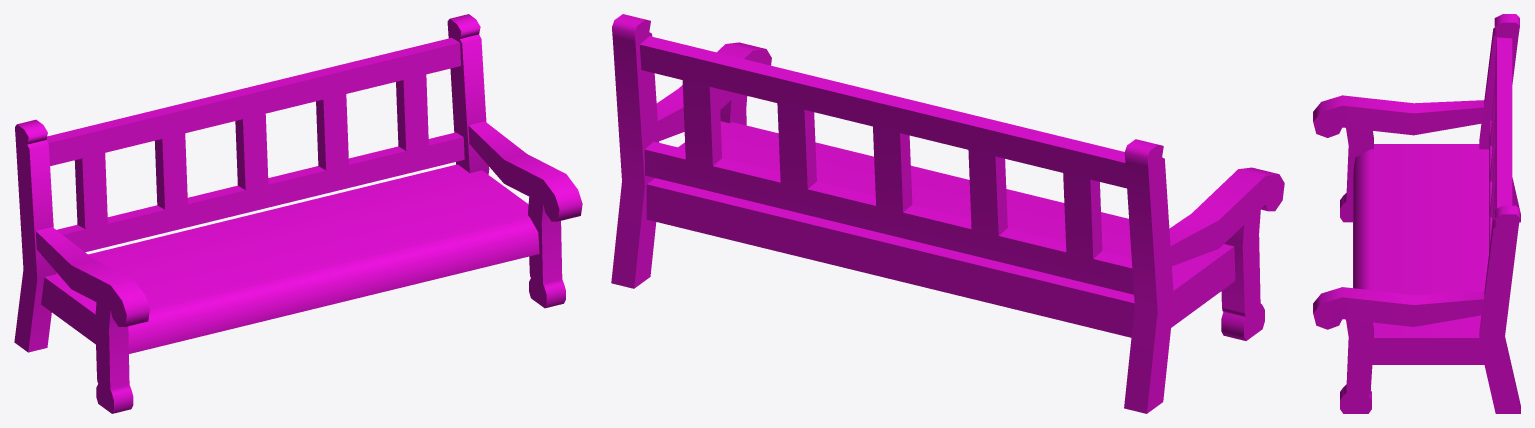
Rendered from Bench.fbx.
3 renders of one model, left to right at view 1: azimuth 30°, elevation 25°; view 2: azimuth 150°, elevation 25°; view 3: azimuth 270°, elevation 25°, orthographic. The views are drawn at different scales.
Visible parts, largest first — view 1: Bench; view 2: Bench; view 3: Bench.
Part boxes in pixels (left/top/right/bottom): Bench: left=14, top=14, right=582, bottom=413; Bench: left=611, top=14, right=1284, bottom=413; Bench: left=1313, top=14, right=1520, bottom=413.
Size of the model in its own units: 163 by 75 by 70.67.
